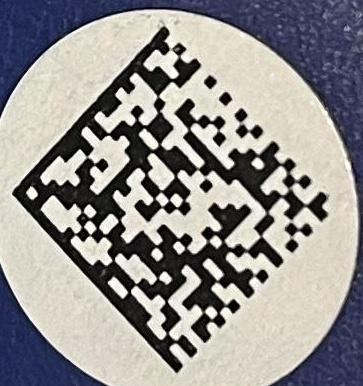datamatrix: (13, 25, 332, 374)
